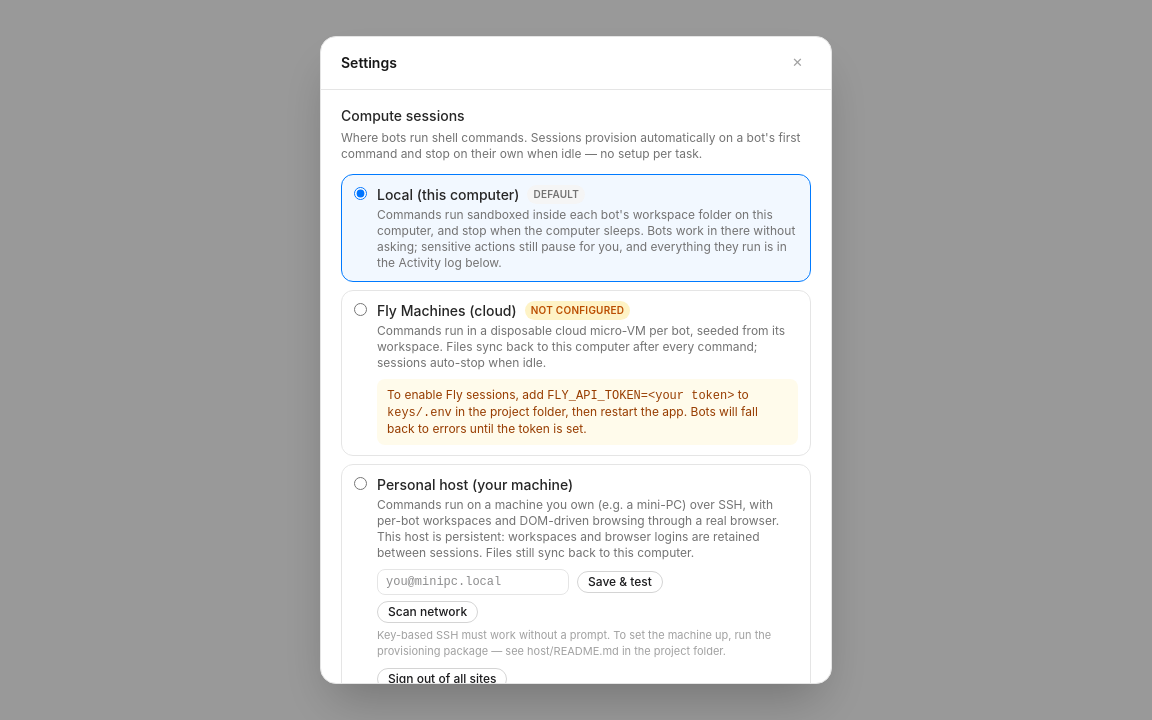
Scenario: personal-host discovery (agent-computer spec delta) › keeps the typed user when a discovered host is chosen
The width and height of the screenshot is (1152, 720).
Type "neo@oldhost.local" into the field named "Personal host SSH target" at [473, 582], box [377, 568, 569, 594]
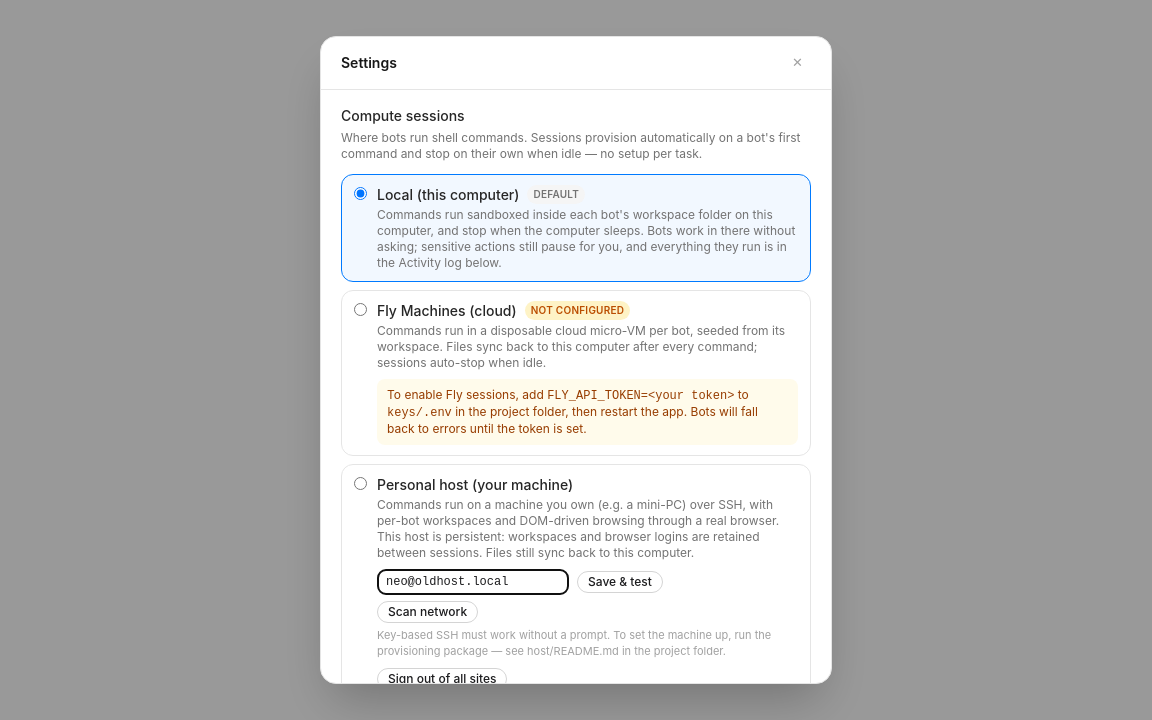
Click the button "Scan network" at [428, 612], box [377, 600, 478, 622]
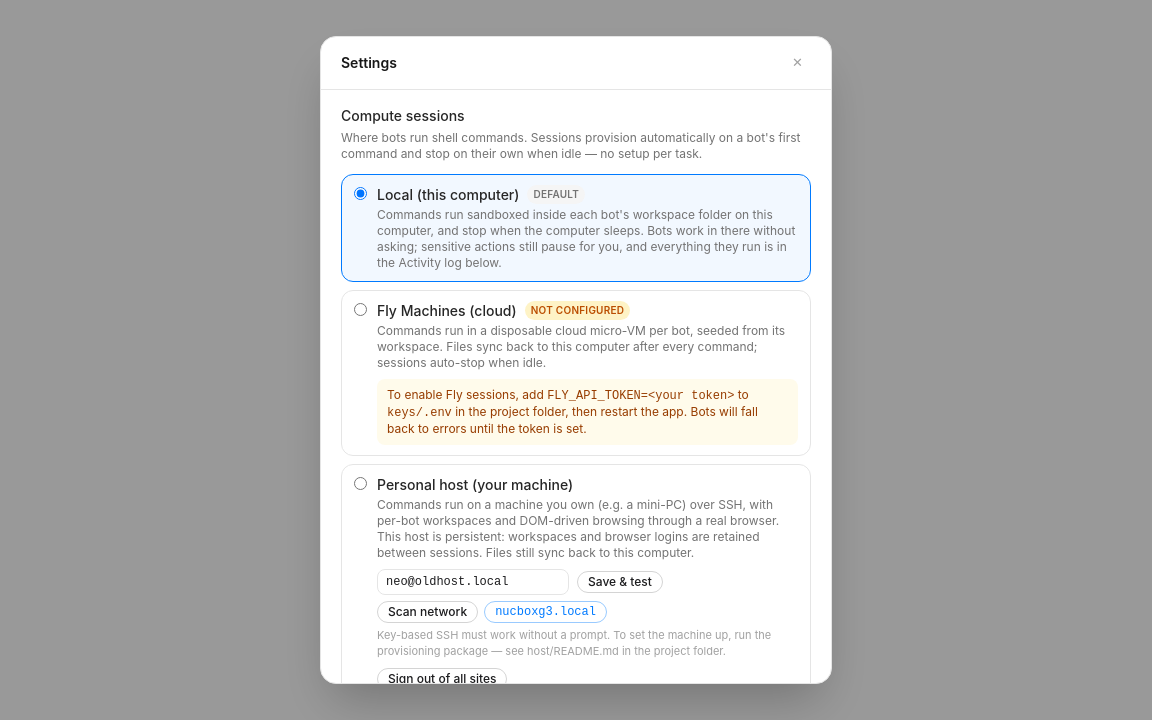
Click the button with test id "discovered-host" at [546, 612], box [484, 600, 607, 622]
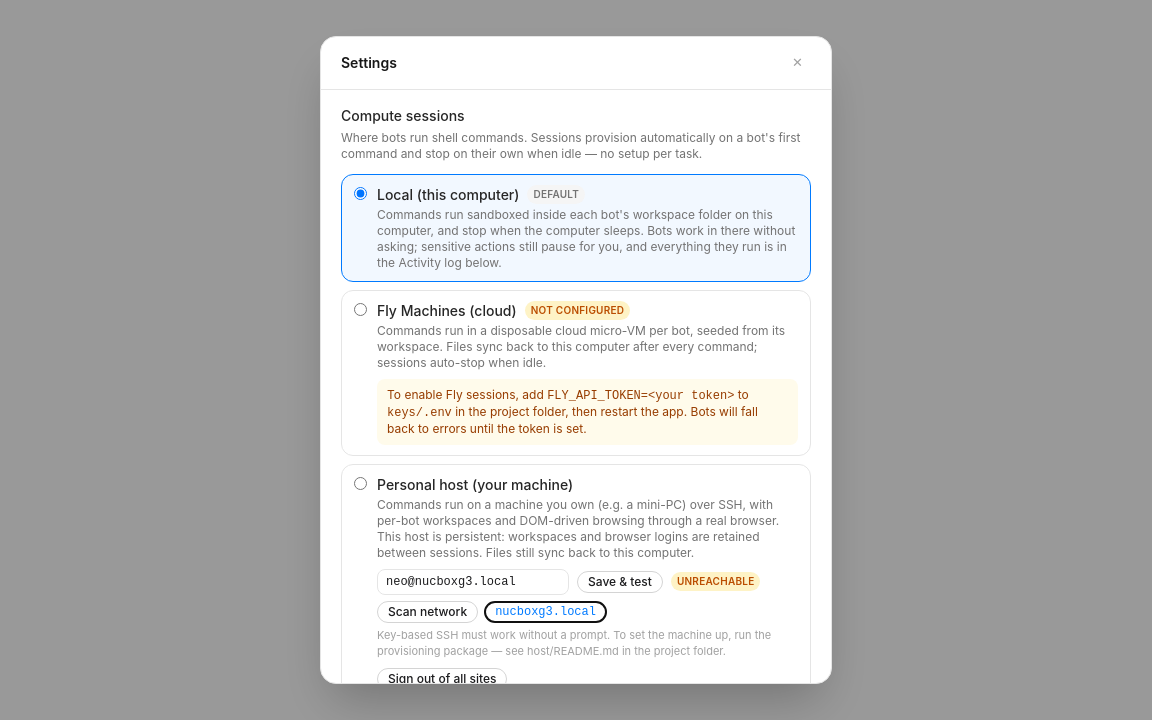
Expected: the field named "Personal host SSH target" holds "neo@nucboxg3.local", [377, 568, 569, 594]
